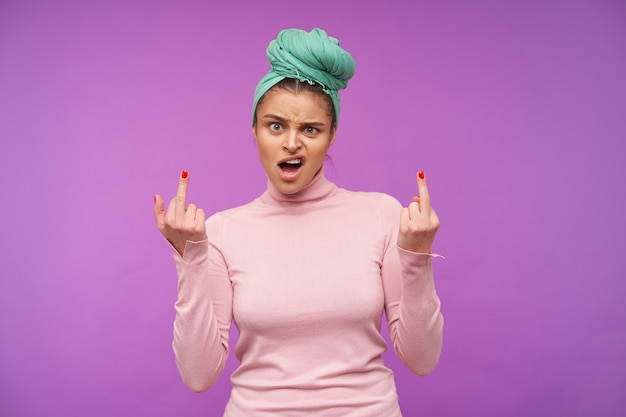insulting_gesture: (151, 168, 208, 262), (395, 168, 441, 257)
